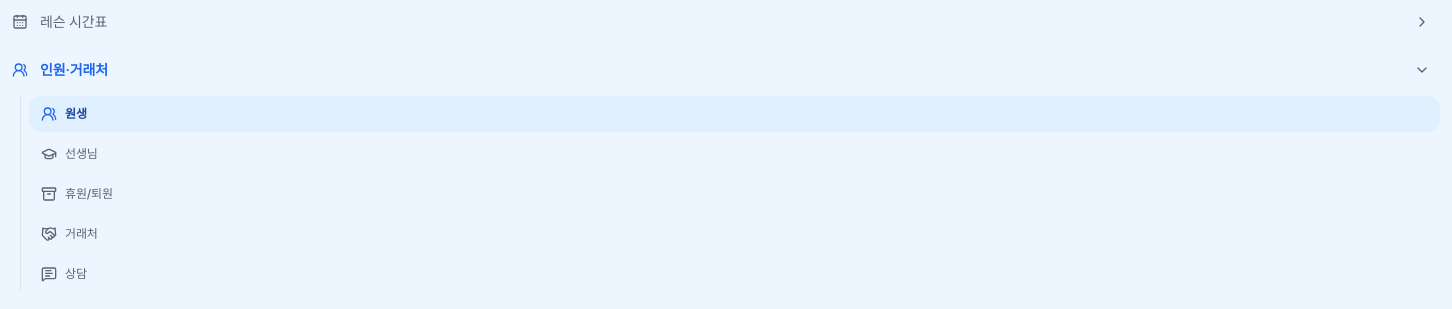
it: 사이드바 하위 메뉴 › 현재 하위 페이지의 메뉴만 기본으로 열고 사용자가 접을 수 있다
Expected: the link "원생" is shown, [29, 96, 1440, 132]
Click the button named "인원·거래처 하위 메뉴 접기": (1422, 70) [1404, 52, 1440, 88]
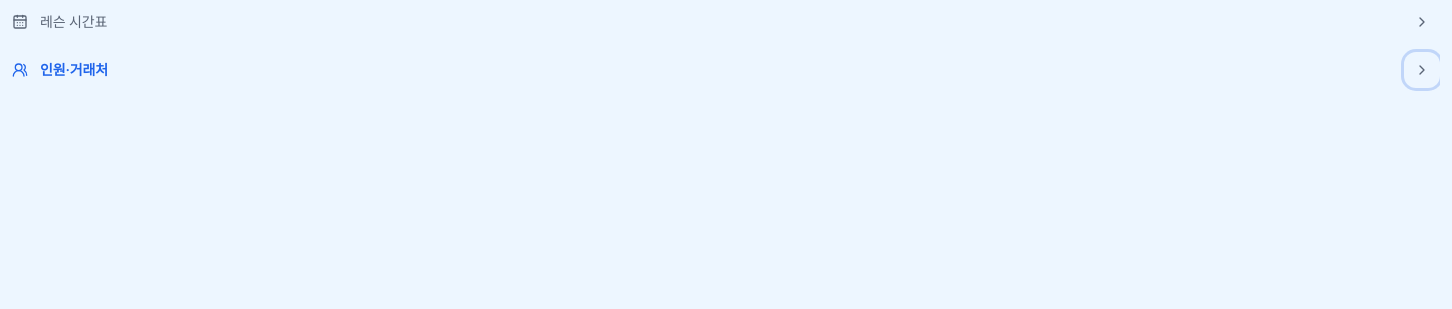
Result: the link "원생" is gone
